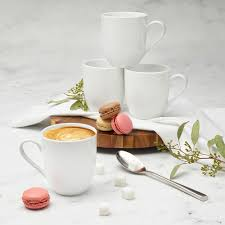mug: (19, 120, 115, 197), (62, 54, 147, 124), (125, 54, 191, 133), (83, 11, 170, 62)
